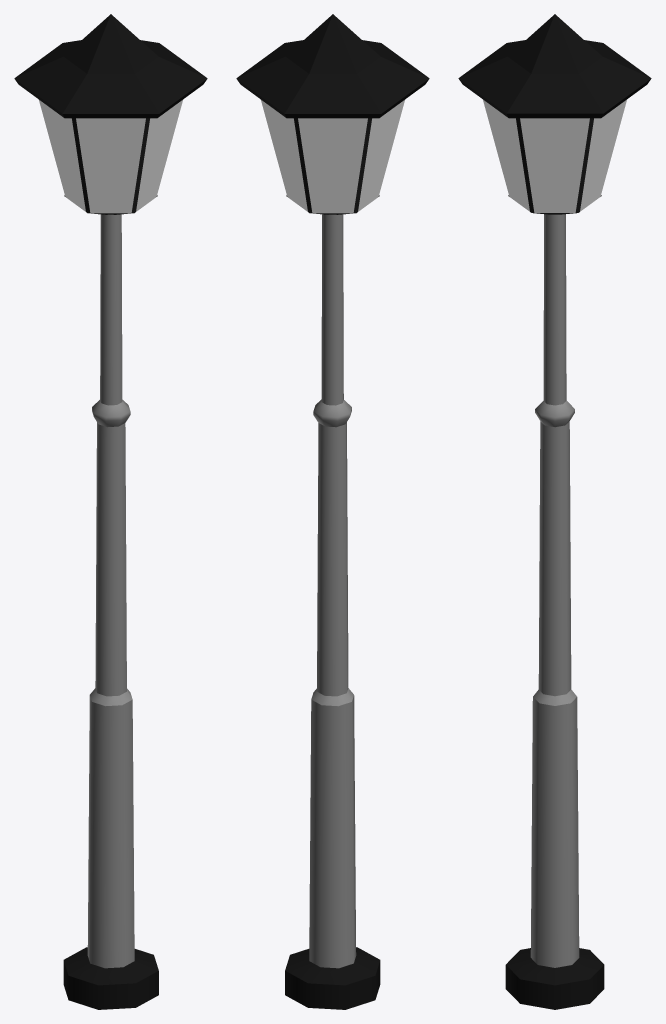
Rendered from SquareLight.fbx.
3 renders of one model, left to right at view 1: azimuth 30°, elevation 25°; view 2: azimuth 150°, elevation 25°; view 3: azimuth 270°, elevation 25°, orthographic.
Parts seen in each view (by area): view 1: SquareLight, Lamp; view 2: SquareLight, Lamp; view 3: SquareLight, Lamp.
Part boxes in pixels (x1,y1,x2,y2): SquareLight: [14, 14, 207, 1009]; Lamp: [38, 99, 183, 213]; SquareLight: [236, 14, 429, 1009]; Lamp: [260, 99, 405, 213]; SquareLight: [458, 14, 651, 1009]; Lamp: [483, 99, 626, 212].
Size of what is drawn, in the model's own units: 0.5361 by 3.44 by 0.6191.
